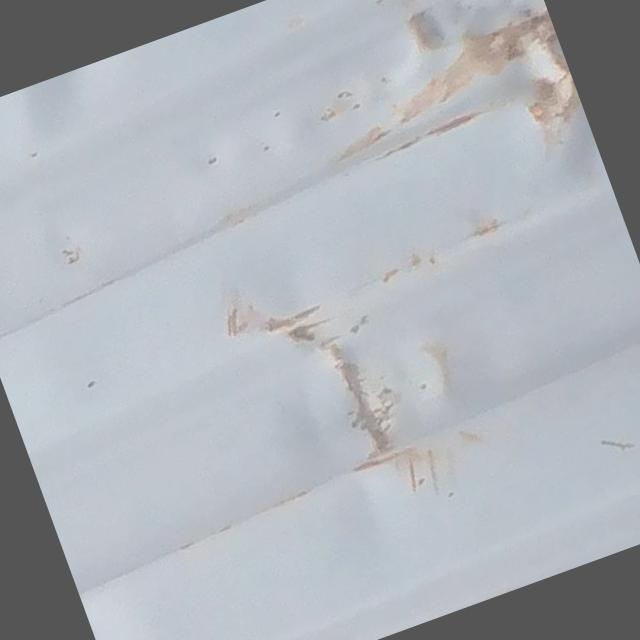rust: (258, 263, 478, 500)
